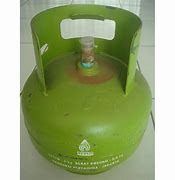gas_ijo: (21, 5, 152, 176)
